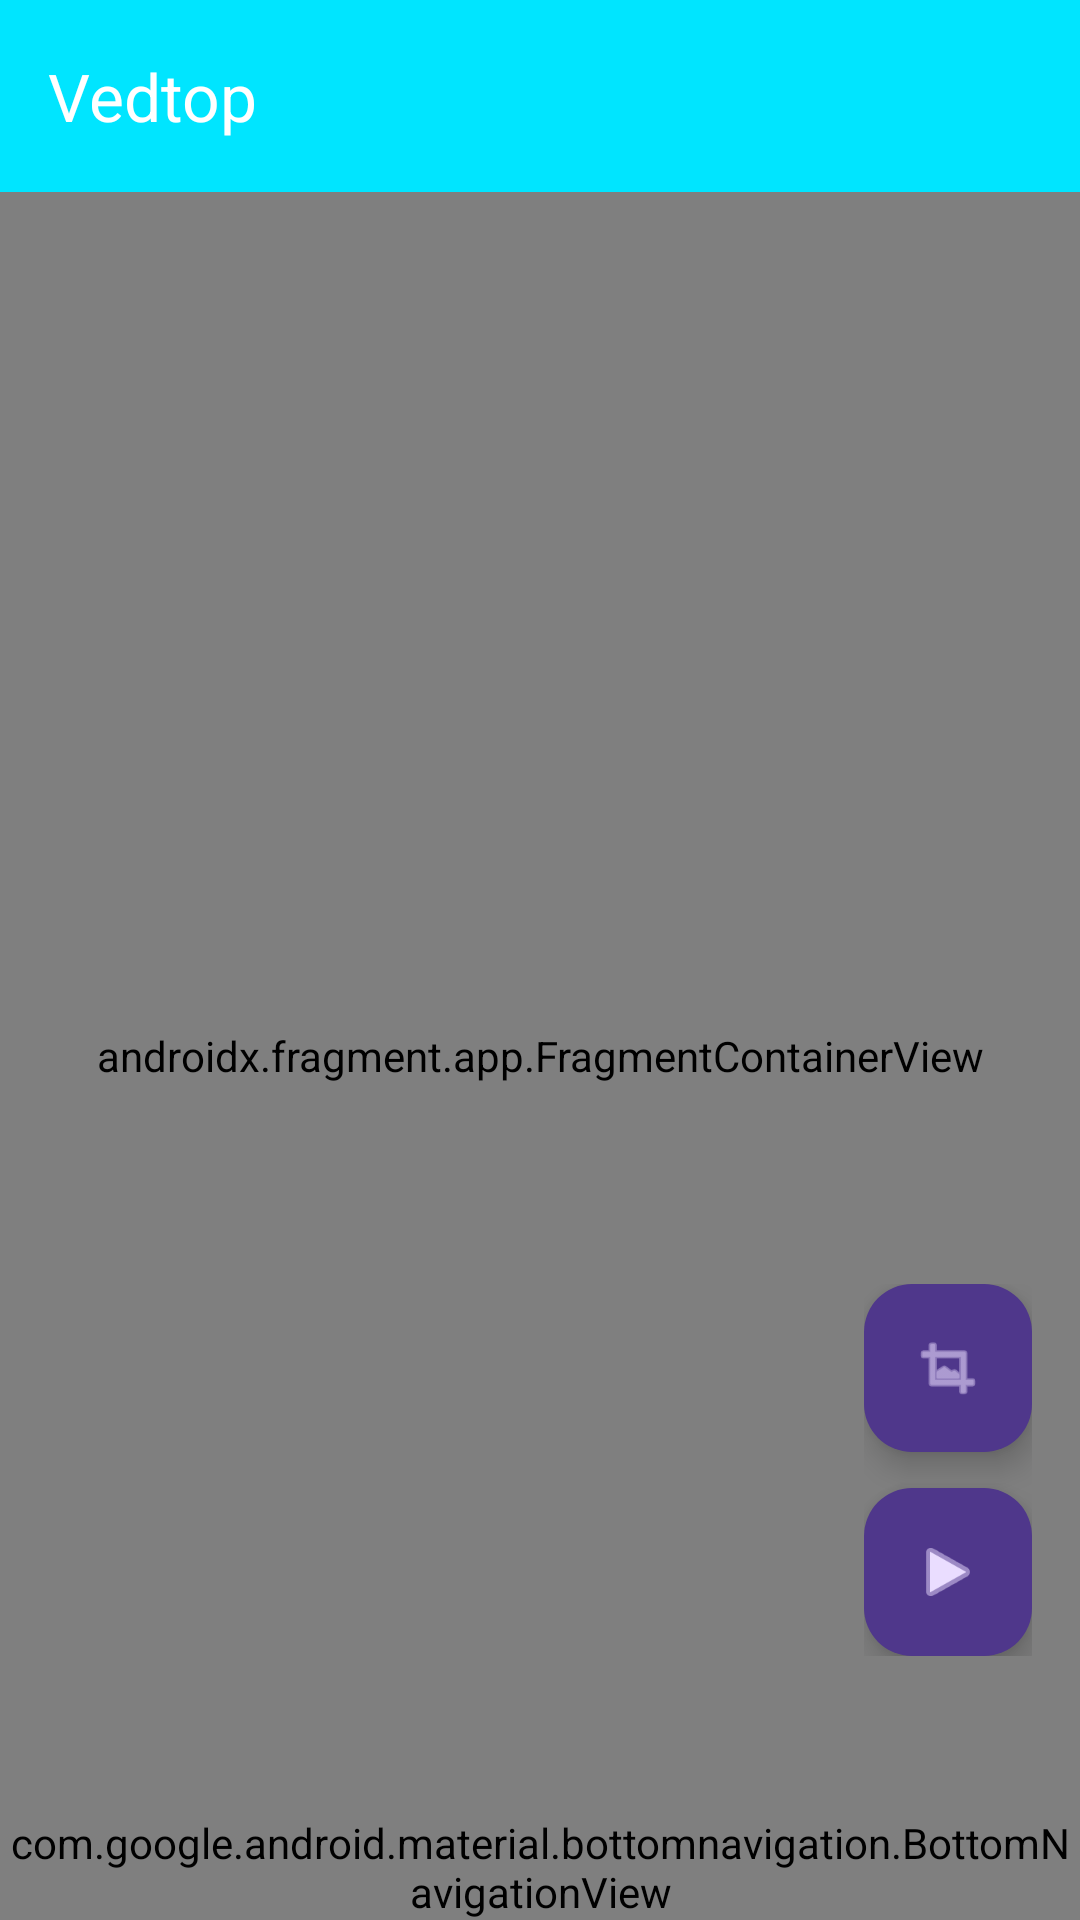

Icon click points for this 1080×1920 phone screenshot, format point (x, y):
تشغيل بالخلفية: point (948, 1572)
تصغير الفيديو: point (948, 1368)
